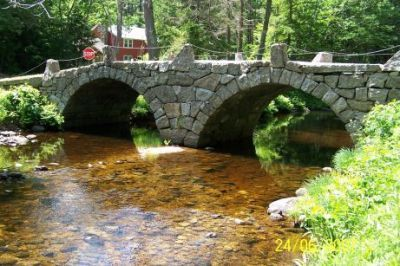bridge: (40, 39, 400, 150)
